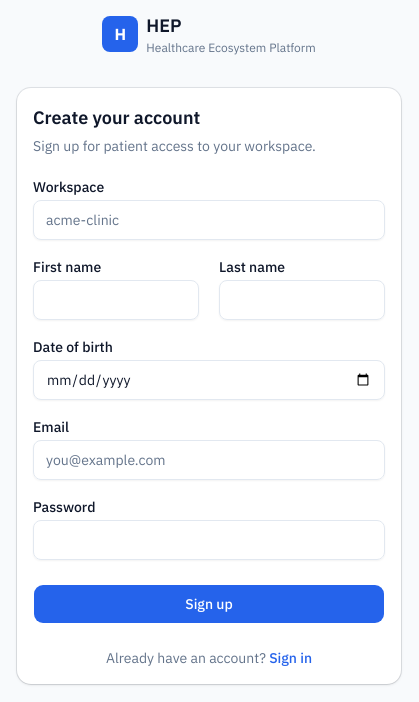
Test case: PatientSignUpPage › falls back to a manual sign-in prompt if auto-login fails after a successful sign-up
The image size is (419, 702).
In the field labelled "Workspace": [209, 220] box top-left (33, 200), bottom-right (385, 240), type "acme"
In the field labelled "First name": [116, 300] box top-left (33, 280), bottom-right (199, 320), type "New"
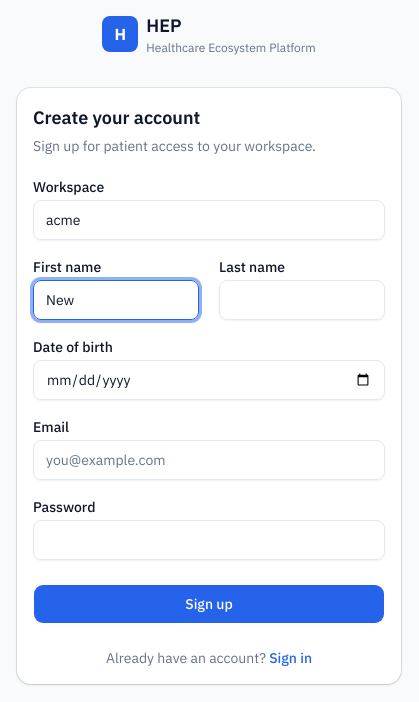
In the field labelled "Last name": [302, 300] box top-left (219, 280), bottom-right (385, 320), type "Patient"
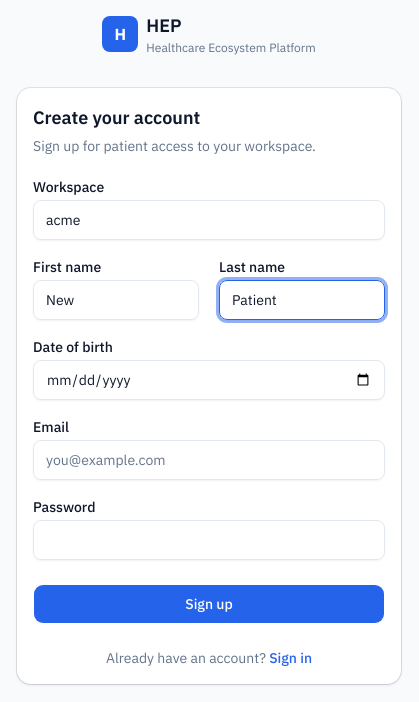
In the date field labelled "Date of birth": [209, 380] box top-left (33, 360), bottom-right (385, 400), type "1990-01-01"
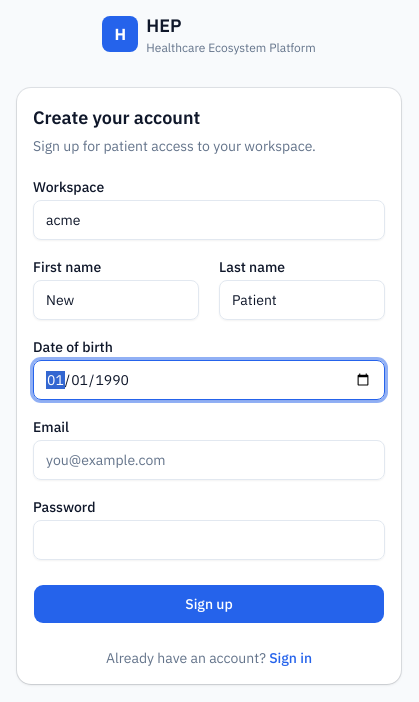
In the field labelled "Email": [209, 460] box top-left (33, 440), bottom-right (385, 480), type "new.patient@acme.example.com"
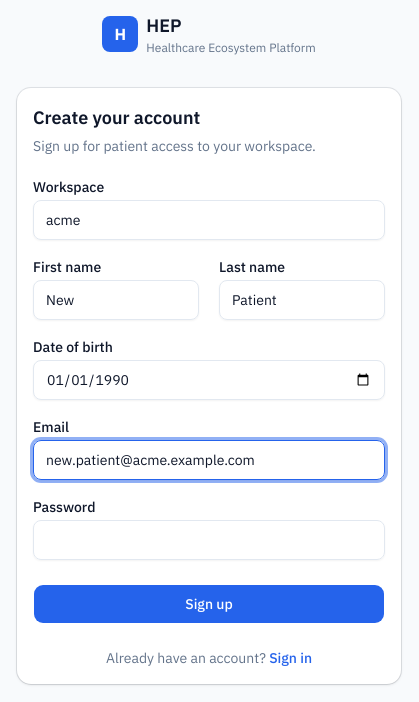
In the password field labelled "Password": [209, 540] box top-left (33, 520), bottom-right (385, 560), type "s3cret!!"
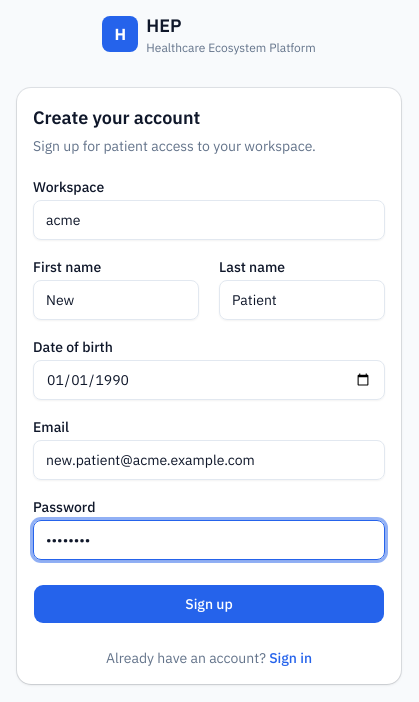
Click the button "Sign up": [209, 604] box top-left (33, 584), bottom-right (385, 624)
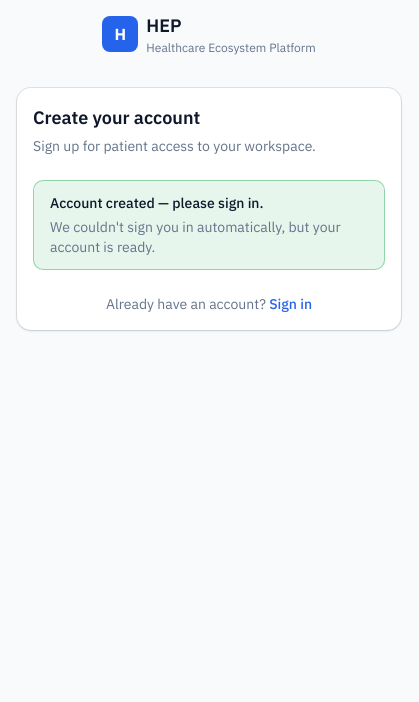
Expected: the text "Account created — please sign in." is shown, top-left (50, 194), bottom-right (264, 212)
